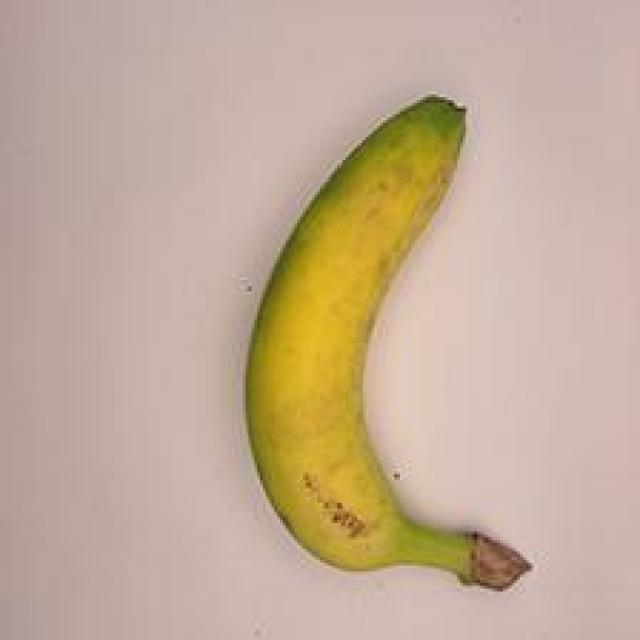unripe: (190, 56, 592, 621)
